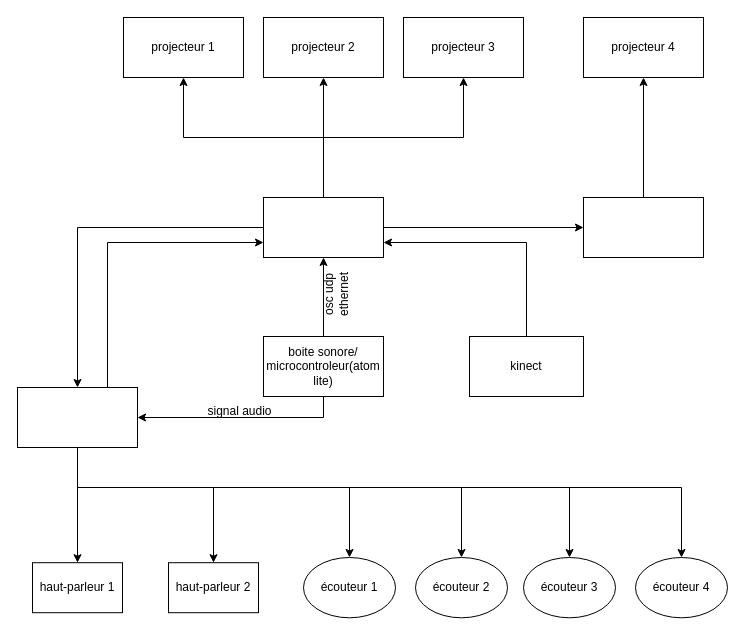
The diagram is 745 pixels wide and 636 high, and some of its shapes have lost their labels. Each missing label, with the centre of its shape:
cartes son: the point at 77,417
ordinateur principale touchdesigner: the point at 323,227
ordinateur secondaire (ndi + touch out)): the point at 643,227
